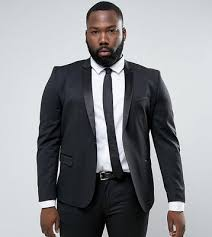F_M_suit jacket: (26, 61, 200, 211)
F_belt: (88, 174, 140, 183)
F_shirt: (90, 58, 129, 172)
F_tie: (99, 68, 123, 172)
